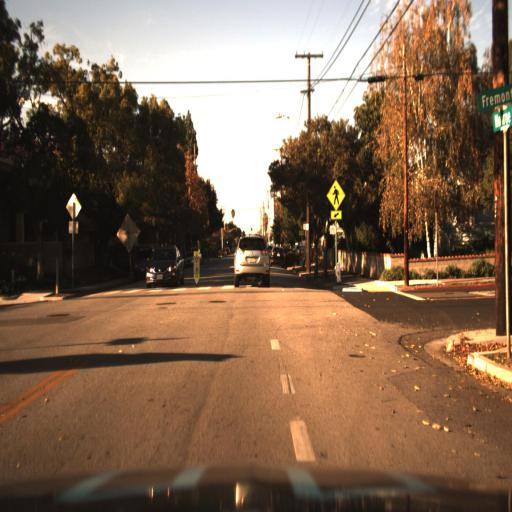car: (230, 232, 272, 291), (142, 243, 184, 295), (143, 245, 185, 287), (270, 239, 287, 272)
